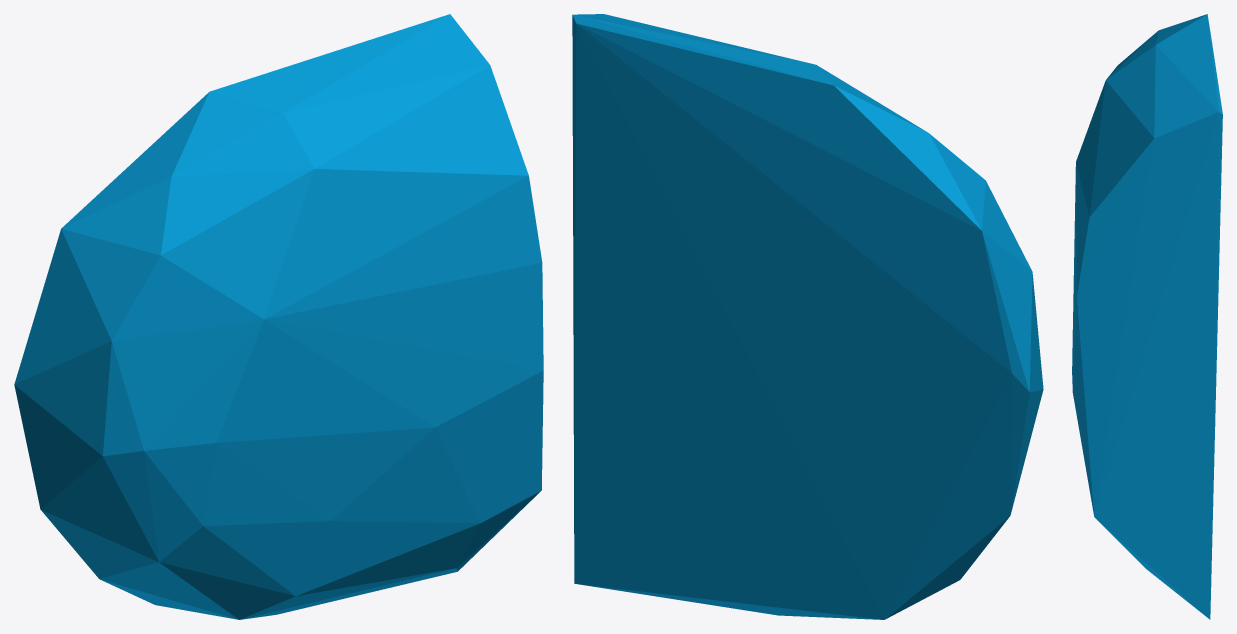
The model's file is arm-L4_convex_piece_007.obj.
3 renders of one model, left to right at view 1: azimuth 30°, elevation 25°; view 2: azimuth 150°, elevation 25°; view 3: azimuth 270°, elevation 25°, orthographic. The views are drawn at different scales.
Size of the model in its own units: 0.0674 by 0.0773 by 0.0209.
